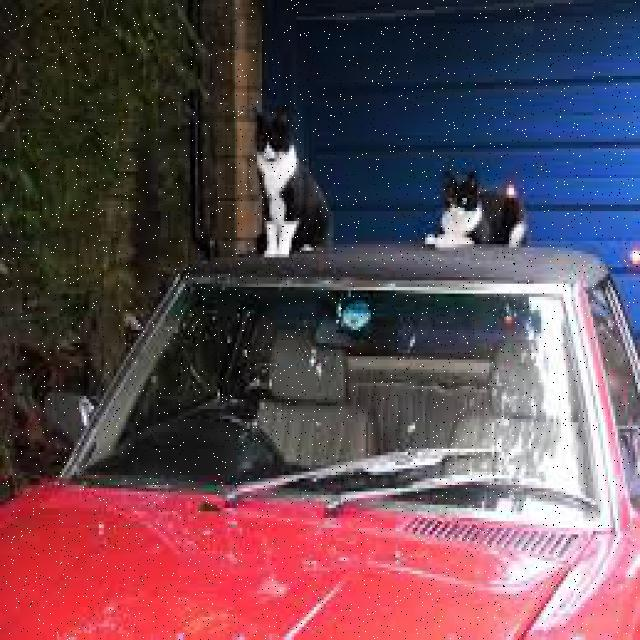Front-Windscreen-Damage: (92, 257, 611, 540)
